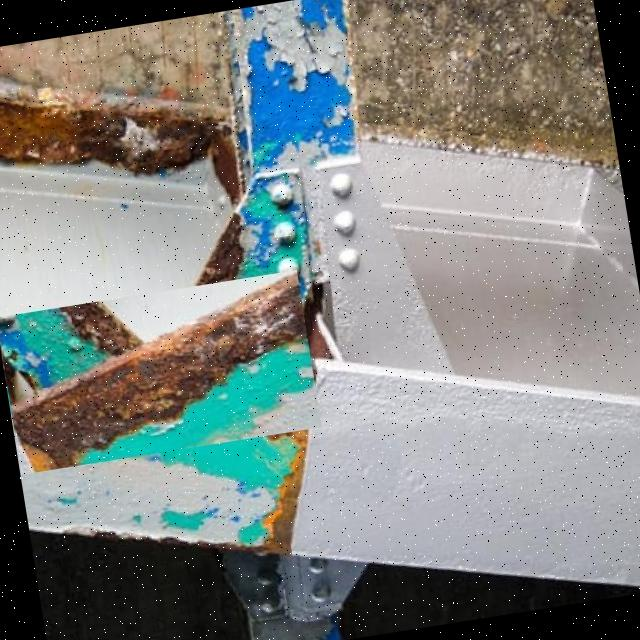Corrosion: (0, 268, 322, 475), (0, 35, 244, 244)
